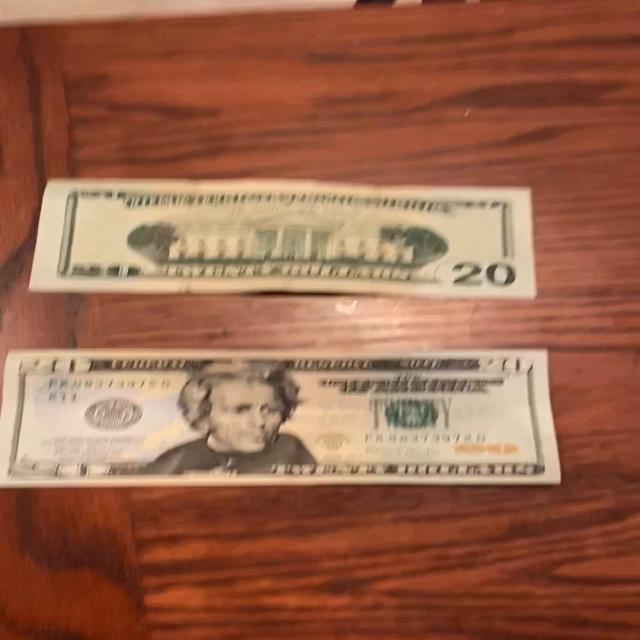20-Back: (26, 177, 538, 302)
20-Front: (0, 342, 573, 490)
